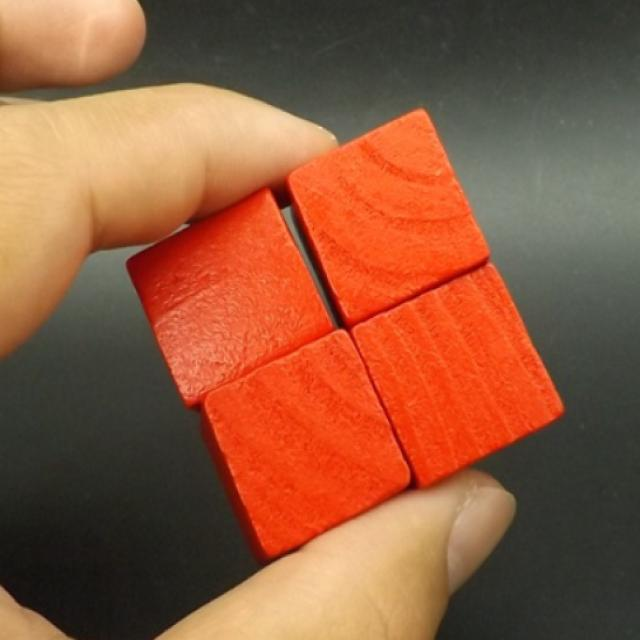red cube: (195, 331, 413, 566), (350, 262, 565, 492), (285, 106, 493, 329), (126, 190, 337, 404)
